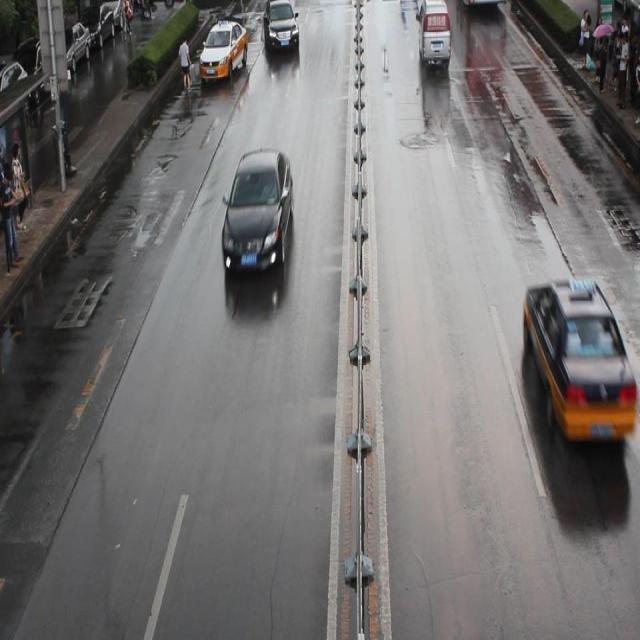car: (522, 275, 631, 444), (220, 149, 294, 276), (197, 21, 247, 81), (261, 1, 298, 54)
truck: (415, 1, 450, 63)
